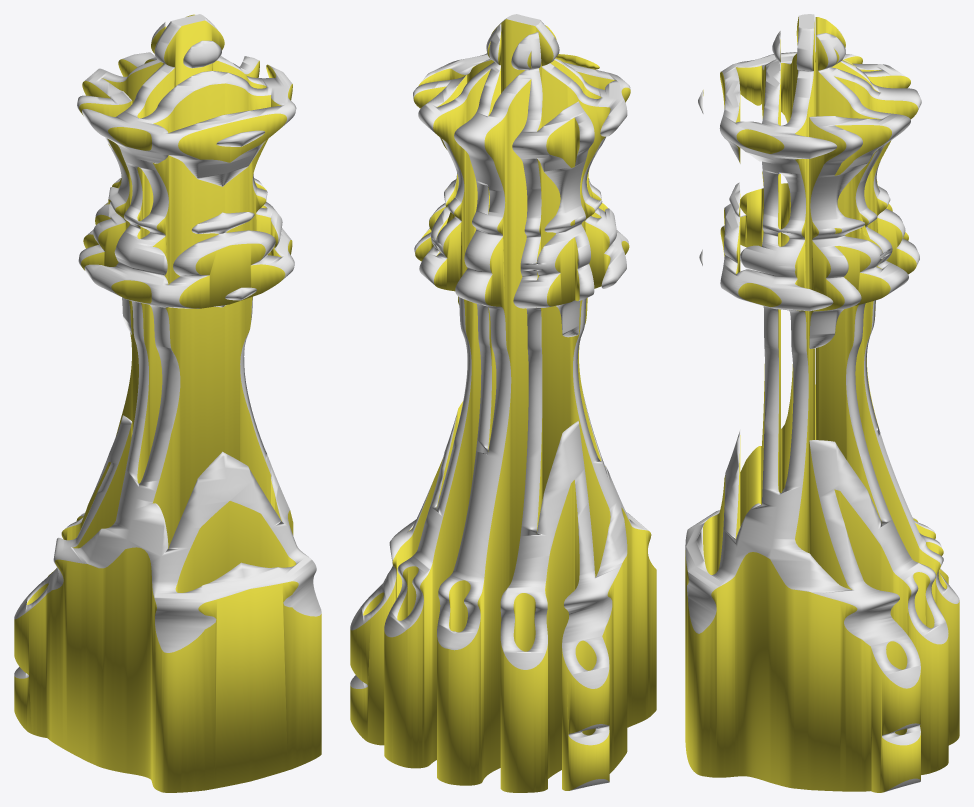
The model's file is WhiteQueen.fbx.
3 views of the same model, side by side, from view 1: azimuth 30°, elevation 25°; view 2: azimuth 150°, elevation 25°; view 3: azimuth 270°, elevation 25° (orthographic).
Visible parts, largest first — view 1: Queen; view 2: Queen; view 3: Queen.
Part boxes in pixels (x1,y1,x2,y2): Queen: (14, 14, 321, 792); Queen: (350, 14, 656, 792); Queen: (685, 14, 959, 792).
Bounding box in the file's own units: 60.91 × 166 × 56.78.
